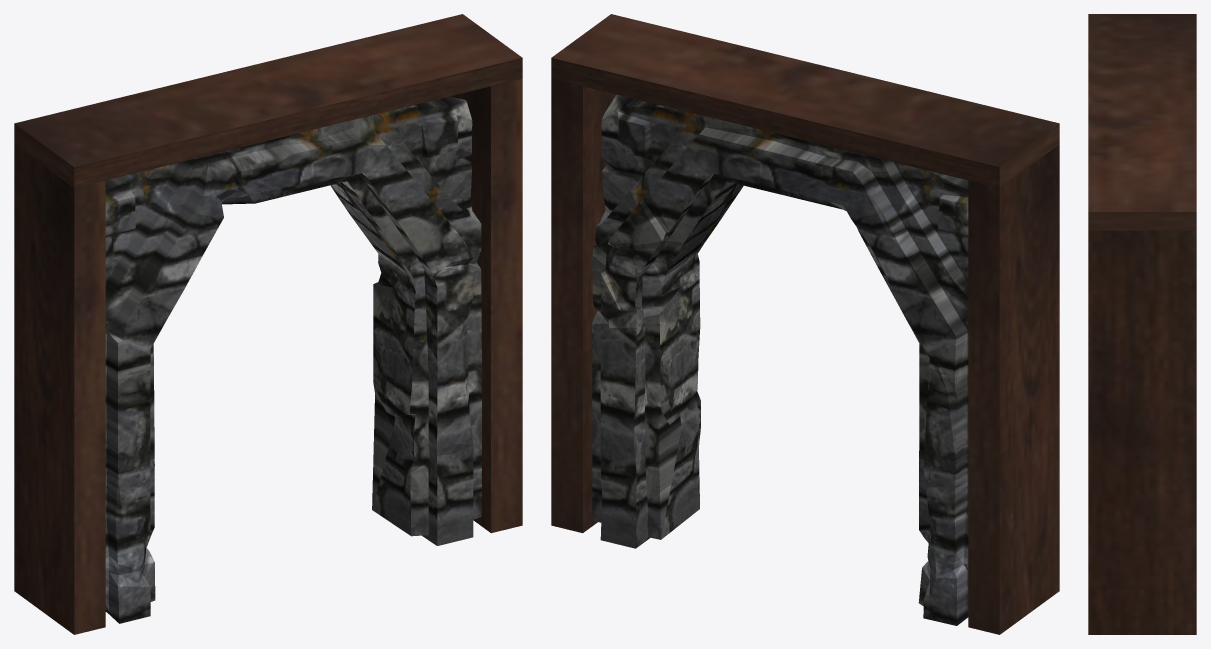
Rendered from Door Frame Large.fbx.
3 renders of one model, left to right at view 1: azimuth 30°, elevation 25°; view 2: azimuth 150°, elevation 25°; view 3: azimuth 270°, elevation 25°, orthographic. The views are drawn at different scales.
Parts seen in each view (by area): view 1: Door Frame Large; view 2: Door Frame Large; view 3: Door Frame Large.
Part boxes in pixels (x1,y1,x2,y2): Door Frame Large: (14,14,522,634); Door Frame Large: (551,14,1059,634); Door Frame Large: (1088,14,1196,634).
Bounding box in the file's own units: 2196 × 2201 × 508.
Materials: 1 (1 with a texture image).
